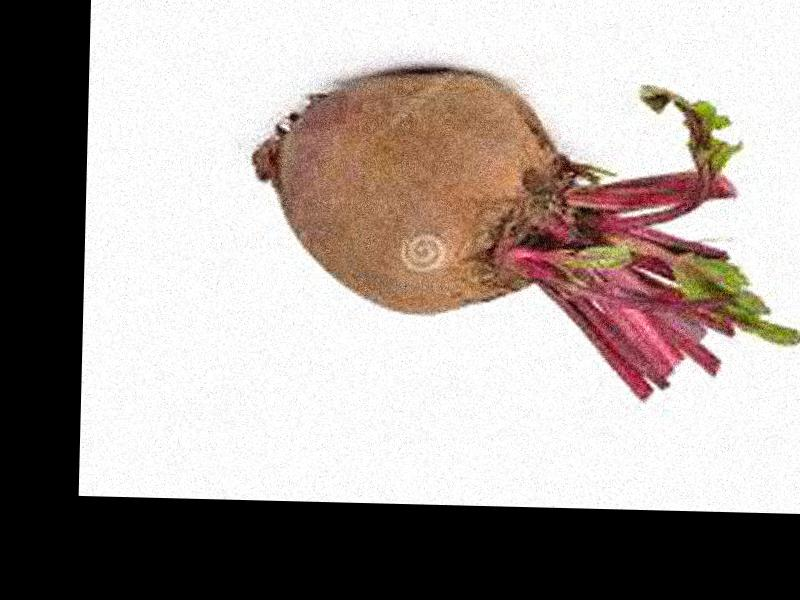Beet: (246, 69, 800, 401)
